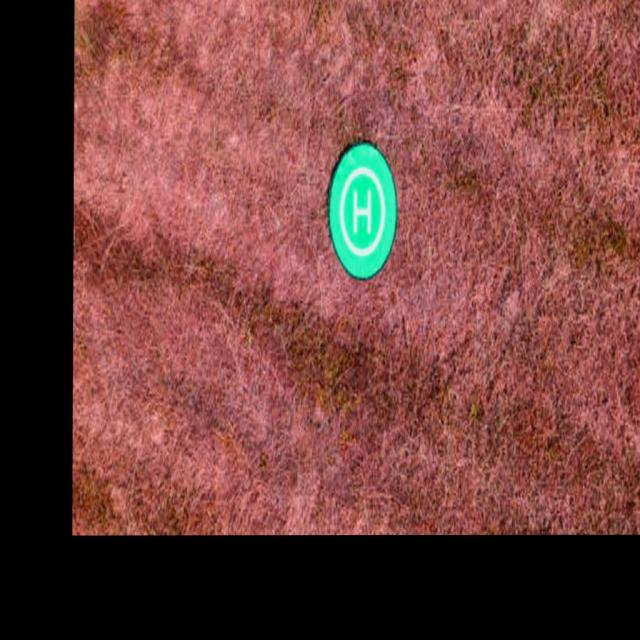helipad: (338, 164, 386, 257)
